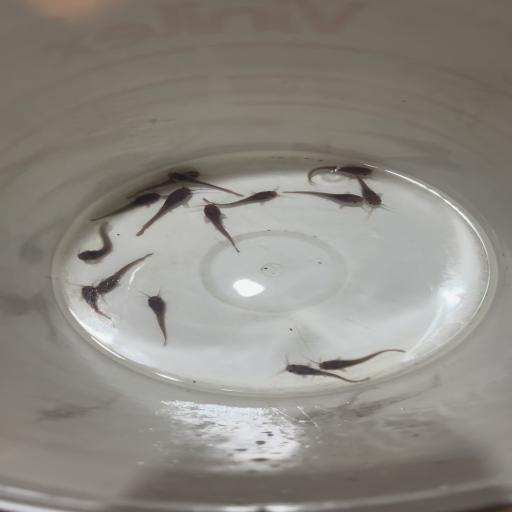lele: (136, 184, 197, 240), (133, 289, 180, 347), (278, 358, 372, 386), (96, 253, 156, 296), (195, 203, 244, 253), (121, 169, 202, 199), (85, 191, 163, 221), (316, 347, 407, 372), (73, 280, 118, 329), (69, 222, 120, 264), (168, 171, 246, 198), (352, 175, 404, 209), (280, 188, 363, 209), (298, 164, 376, 185), (200, 188, 284, 207)
